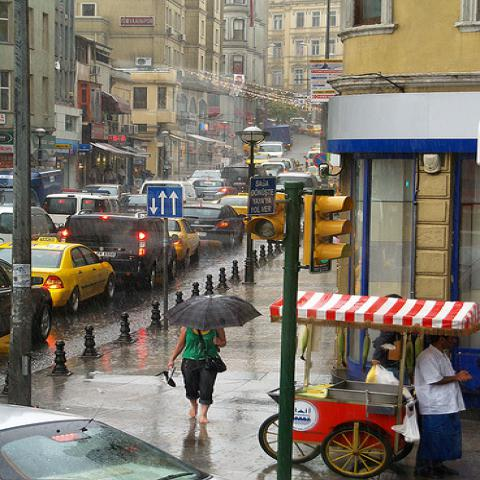car: (1, 139, 326, 358), (3, 402, 218, 475), (57, 208, 179, 292), (0, 237, 118, 315), (45, 194, 122, 234), (183, 203, 250, 245), (0, 206, 61, 244), (168, 217, 203, 269), (190, 178, 236, 200), (220, 167, 260, 191), (80, 183, 132, 201), (276, 170, 320, 189), (218, 193, 248, 216), (243, 153, 270, 168)
truck: (123, 180, 212, 213), (266, 124, 292, 150), (257, 141, 284, 158)
